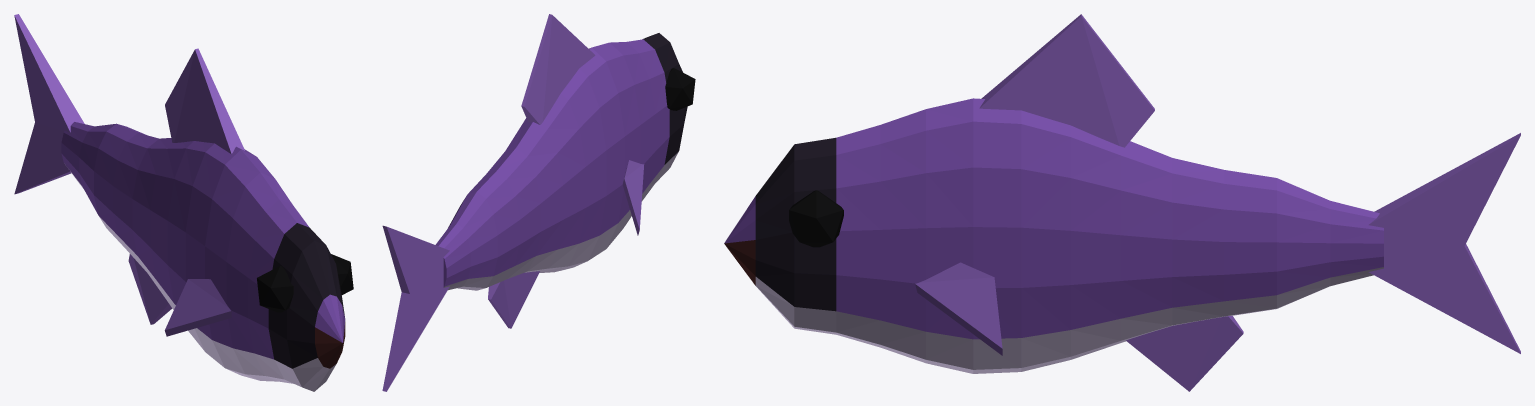
The model's file is FoeThief.obj.
3 renders of one model, left to right at view 1: azimuth 30°, elevation 25°; view 2: azimuth 150°, elevation 25°; view 3: azimuth 270°, elevation 25°, orthographic. The views are drawn at different scales.
Parts seen in each view (by area): view 1: FoeThief; view 2: FoeThief; view 3: FoeThief.
Boxes of the visible parts, x1,y1,x2,y2 form: FoeThief: (14,14,353,391); FoeThief: (382,14,695,391); FoeThief: (724,14,1520,391).
Size of the model in its own units: 0.225 by 0.5153 by 0.99.
